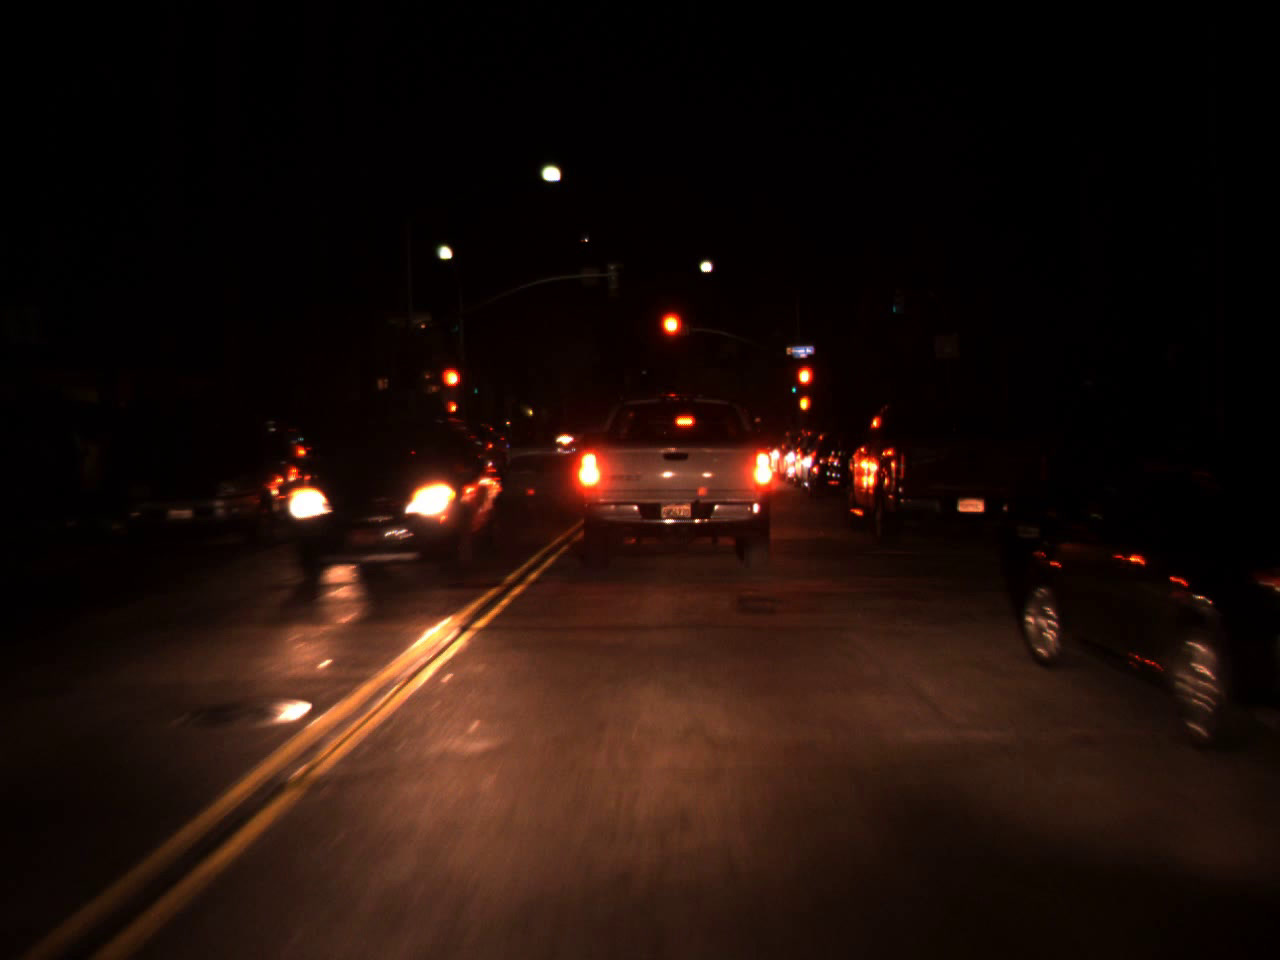stop: (658, 308, 685, 364), (440, 366, 464, 409), (795, 364, 814, 407)
